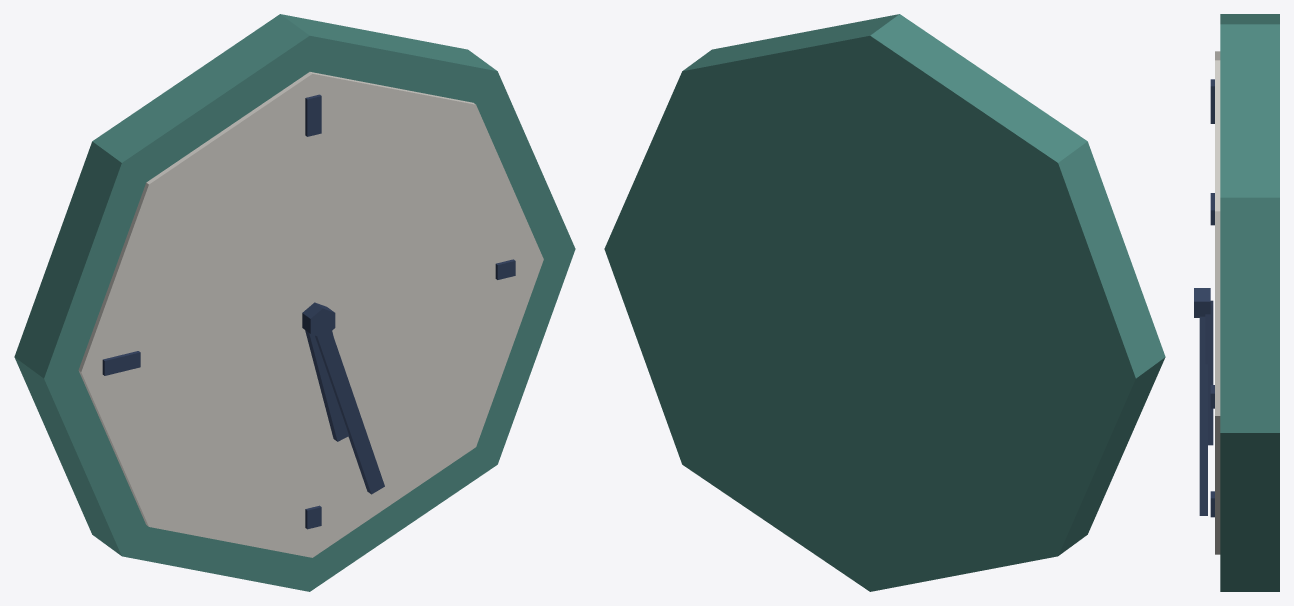
The model's file is wall-clock-35.glb.
3 views of the same model, side by side, from view 1: azimuth 30°, elevation 25°; view 2: azimuth 150°, elevation 25°; view 3: azimuth 270°, elevation 25° (orthographic).
Parts seen in each view (by area): view 1: wall_clock_35; view 2: wall_clock_35; view 3: wall_clock_35.
Boxes of the visible parts, left/top/right/bottom form: wall_clock_35: left=14, top=14, right=575, bottom=591; wall_clock_35: left=604, top=14, right=1165, bottom=591; wall_clock_35: left=1194, top=14, right=1279, bottom=591.
Size of the model in its own units: 0.4455 by 0.4455 by 0.0621.
